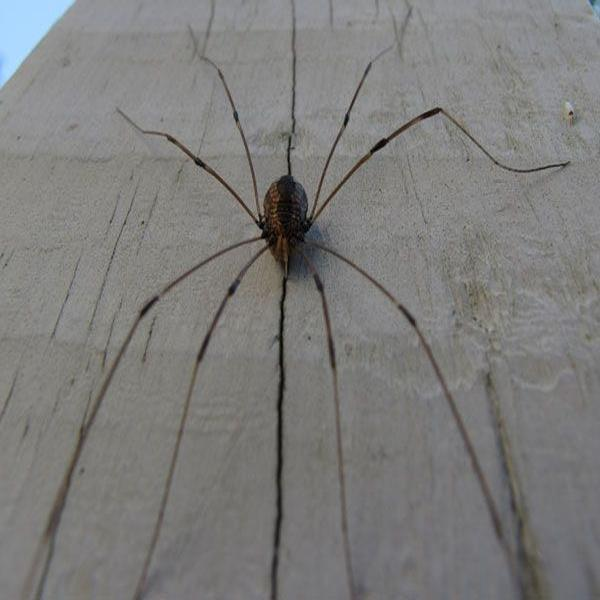Daddy Long Legs Spider: (71, 34, 563, 570)
